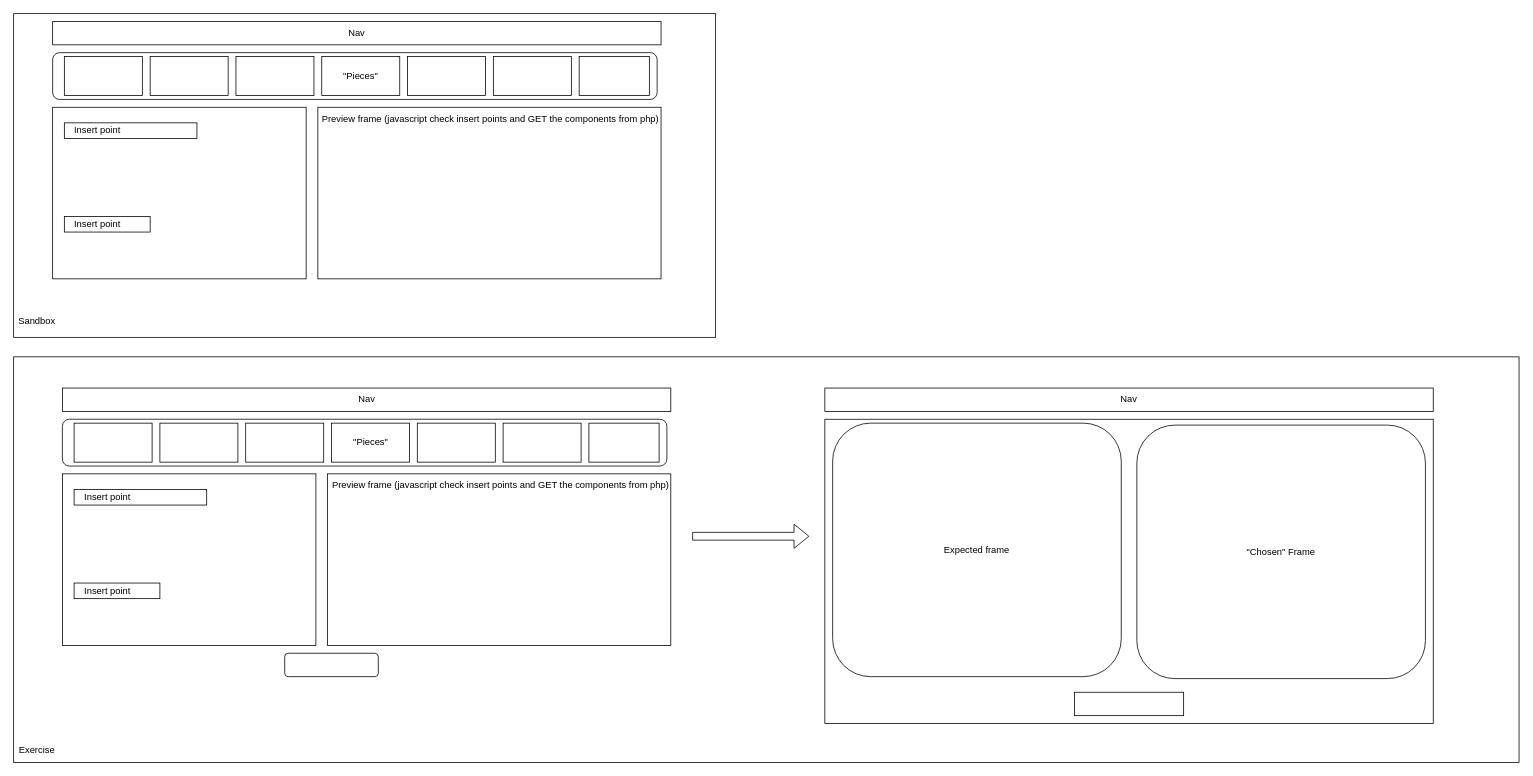
The diagram is 1533 pixels wide and 776 high, and some of its shapes have lost their labels. The centre of each missing label's shape, as x and y in pixels:
Score + Witty response: [1129,703]
Submit: [331,664]
